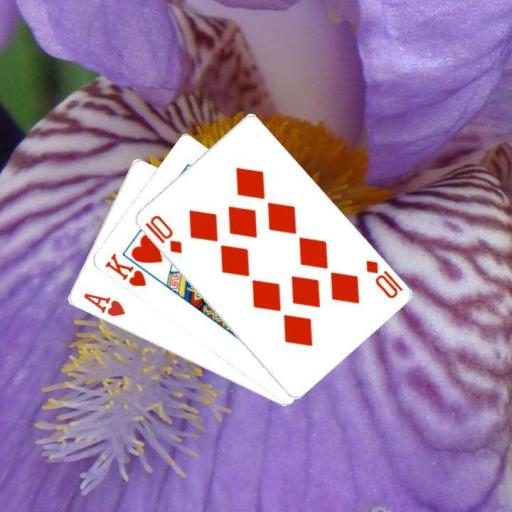10D: (142, 212, 184, 255), (362, 257, 404, 300)
AH: (80, 290, 127, 319)
KH: (101, 250, 148, 289)
